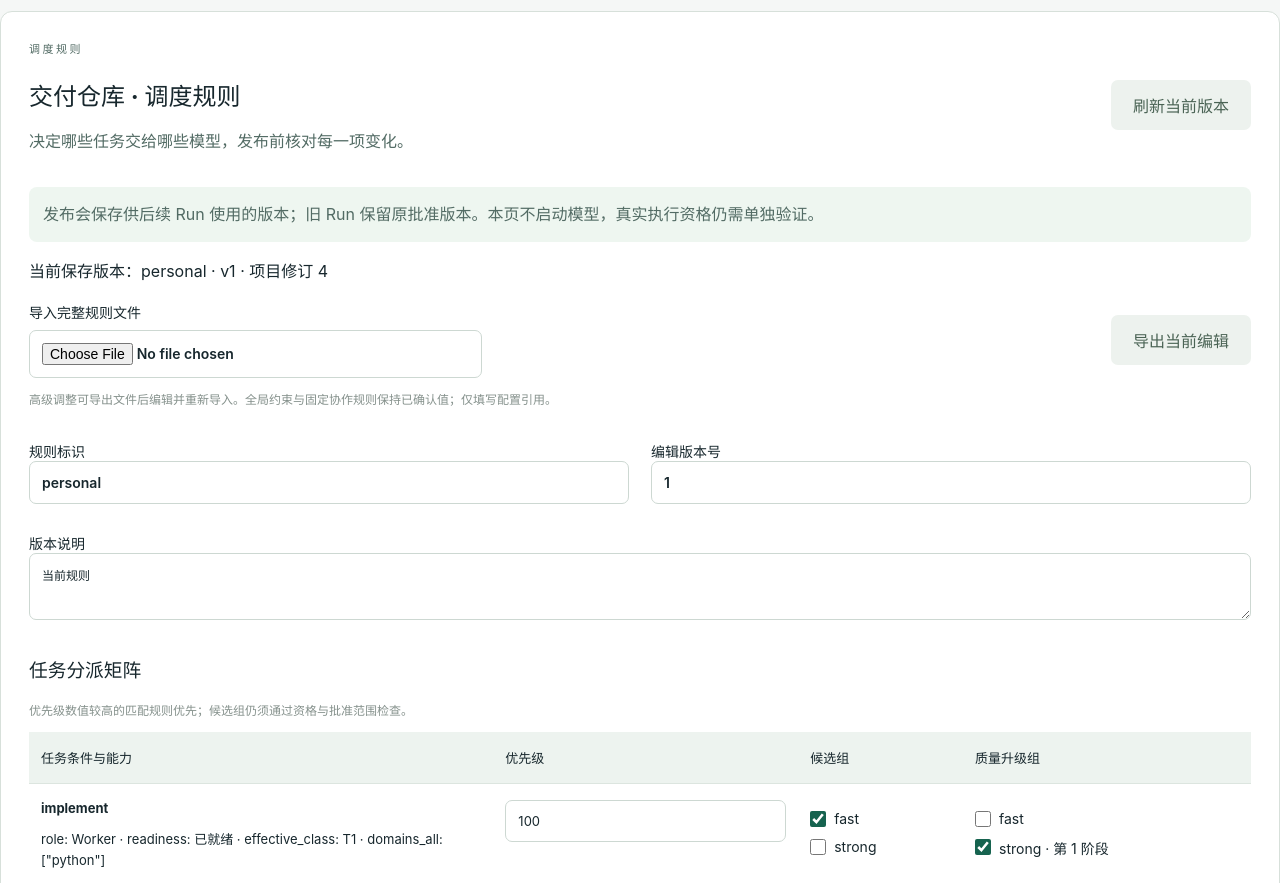
Test: edits matrix groups, registered members, priority, limits and ordering while retaining advanced fields
Expected: the text box labelled "版本说明" is shown, [29,553,1251,620]
Replace the text in the number field labelled "编辑版本号" with "2" at x=951, y=483, box [651,461,1251,504]
Replace the text in the number field named "implement 优先级" with "210" at x=646, y=821, box [505,800,786,842]
Click the checkbox named "implement 候选组 strong" at x=818, y=847, box [810,839,826,855]
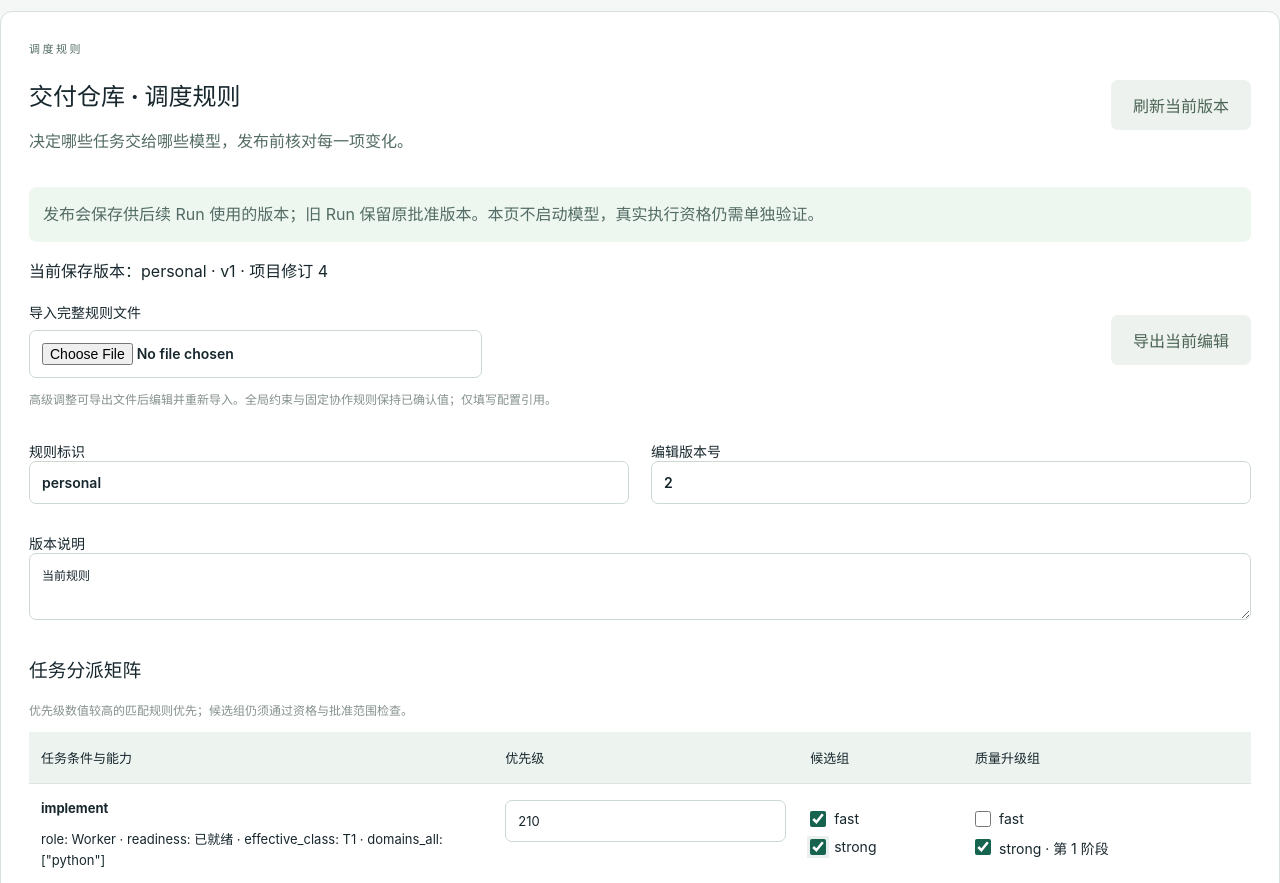
Click the checkbox named "implement 升级组 strong" at x=983, y=847, box [975,839,991,855]
(page scrolled)
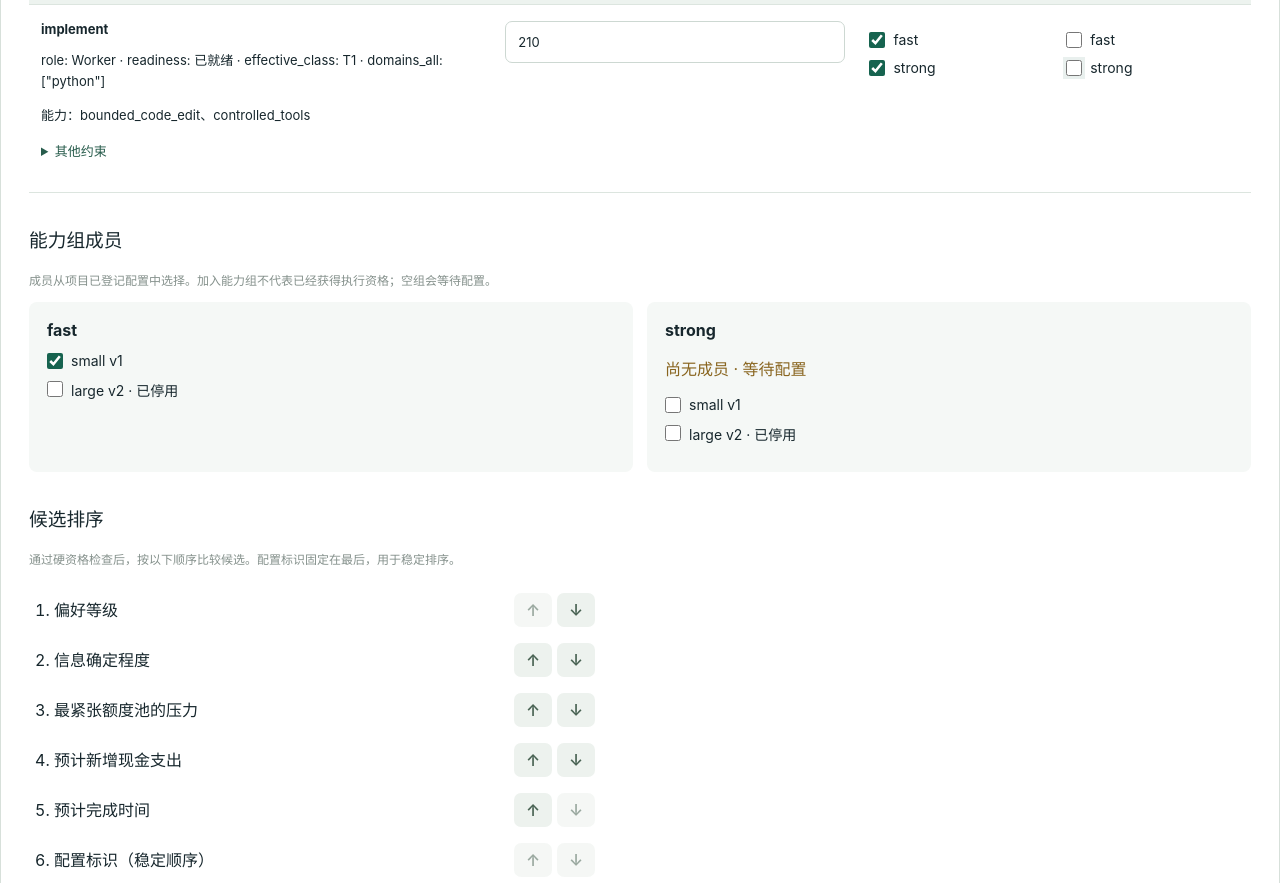
Click the checkbox named "strong 成员 large v2" at x=673, y=433, box [665,425,681,441]
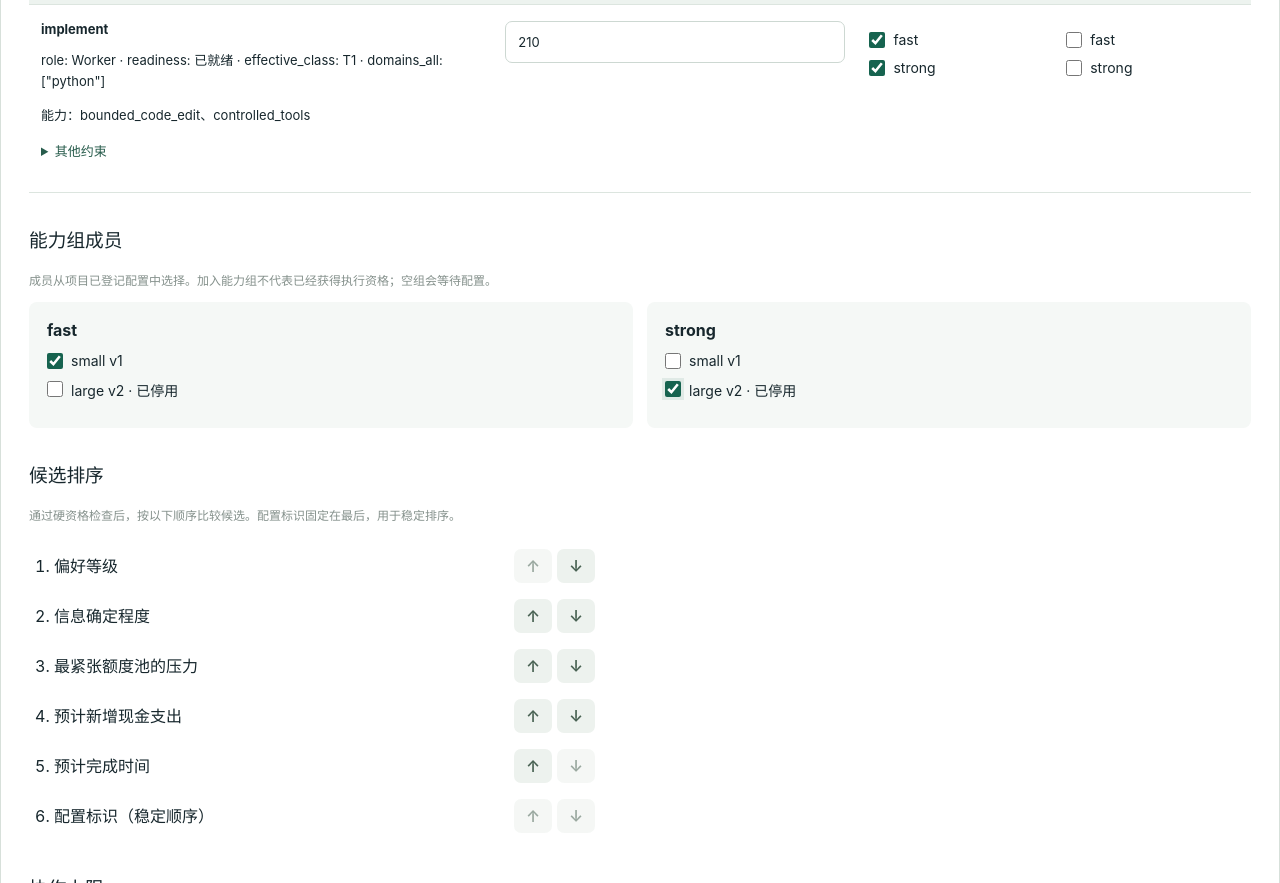
Click the button named "上移信息确定程度" at x=533, y=616, box [514,599,552,633]
(page scrolled)
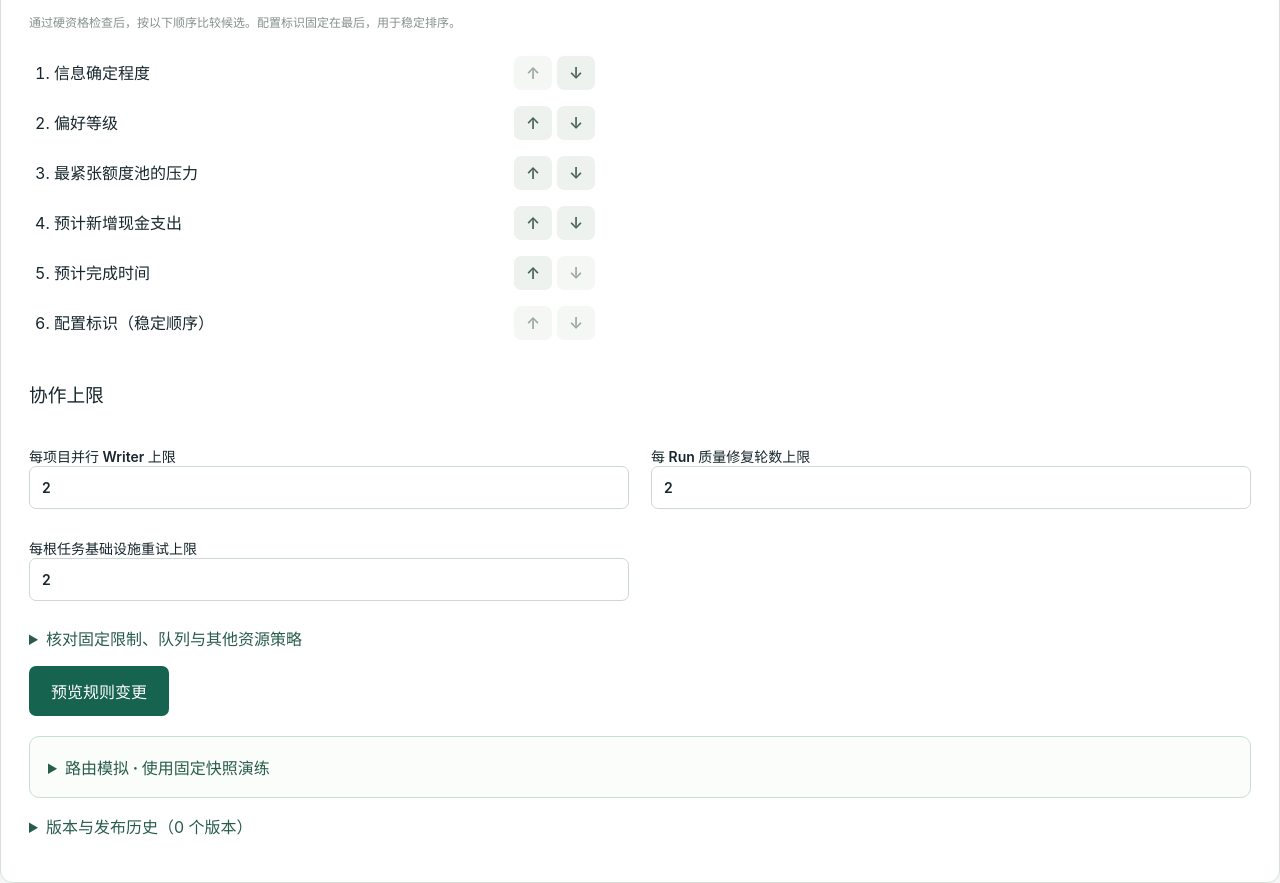
Replace the text in the number field labelled "每 Run 质量修复轮数上限" with "4" at x=951, y=487, box [651,466,1251,509]
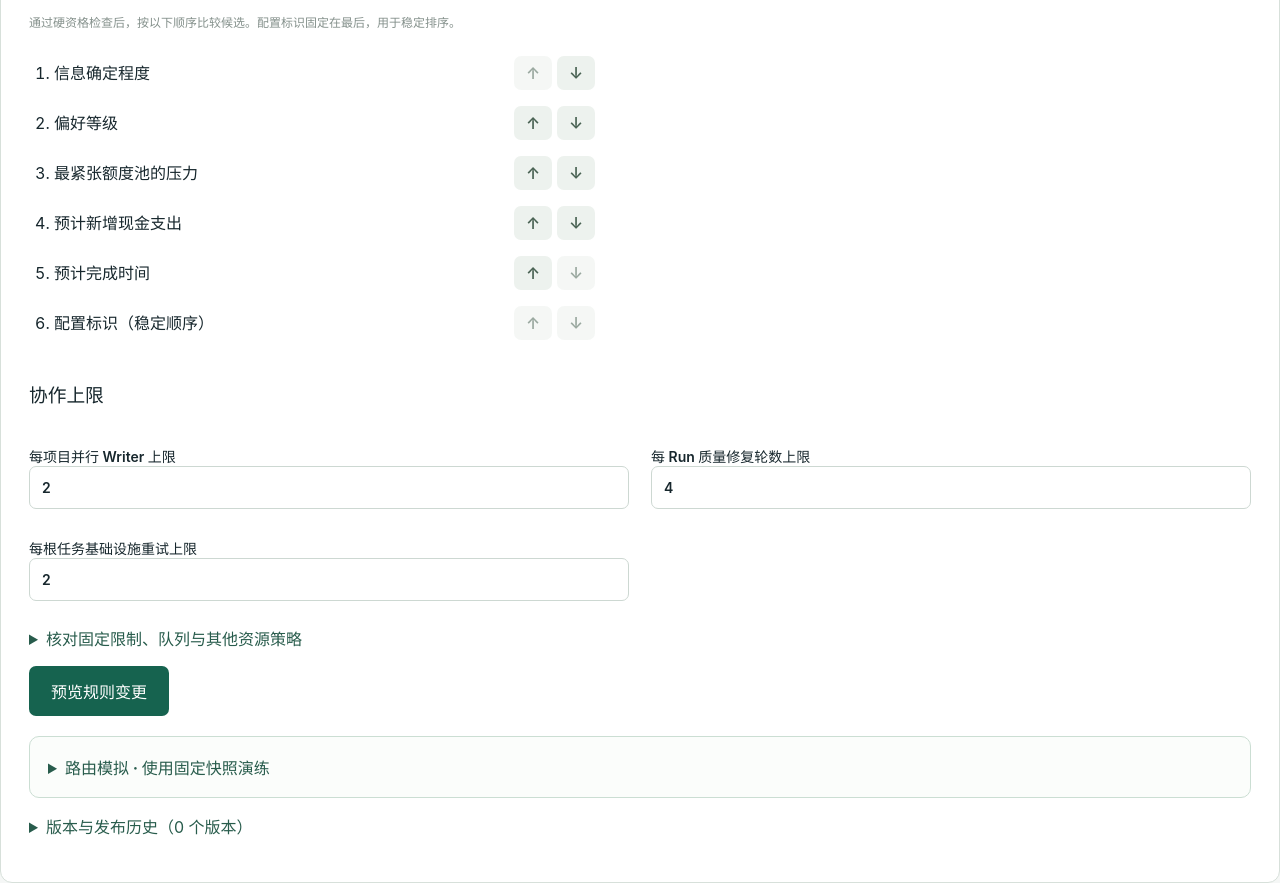
Click the button "预览规则变更" at x=99, y=691, box [29,666,169,716]
(page scrolled)
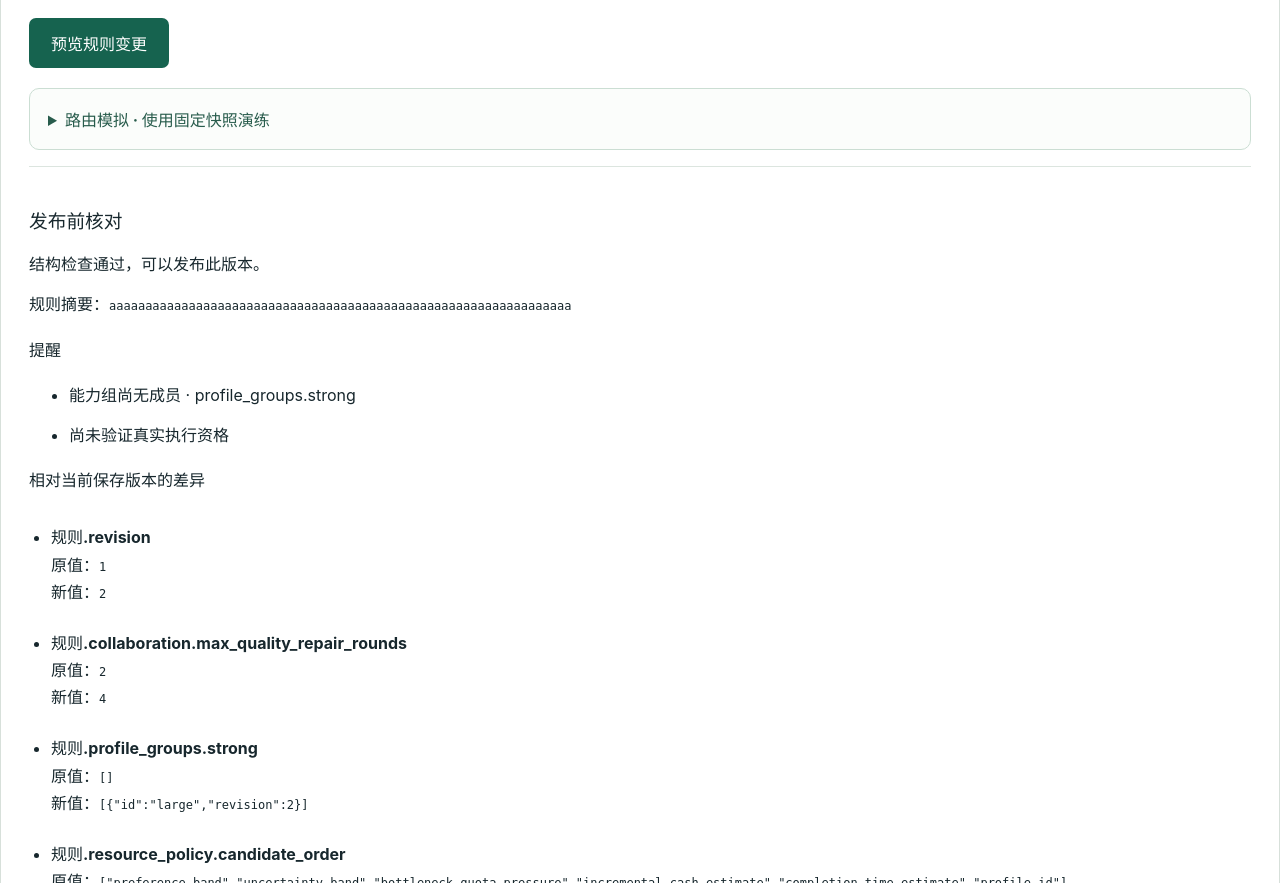
Result: the text "规则.revision" is shown at [51,527,151,547]
Result: the list item "尚未验证真实执行资格" is shown at [69,425,229,445]
